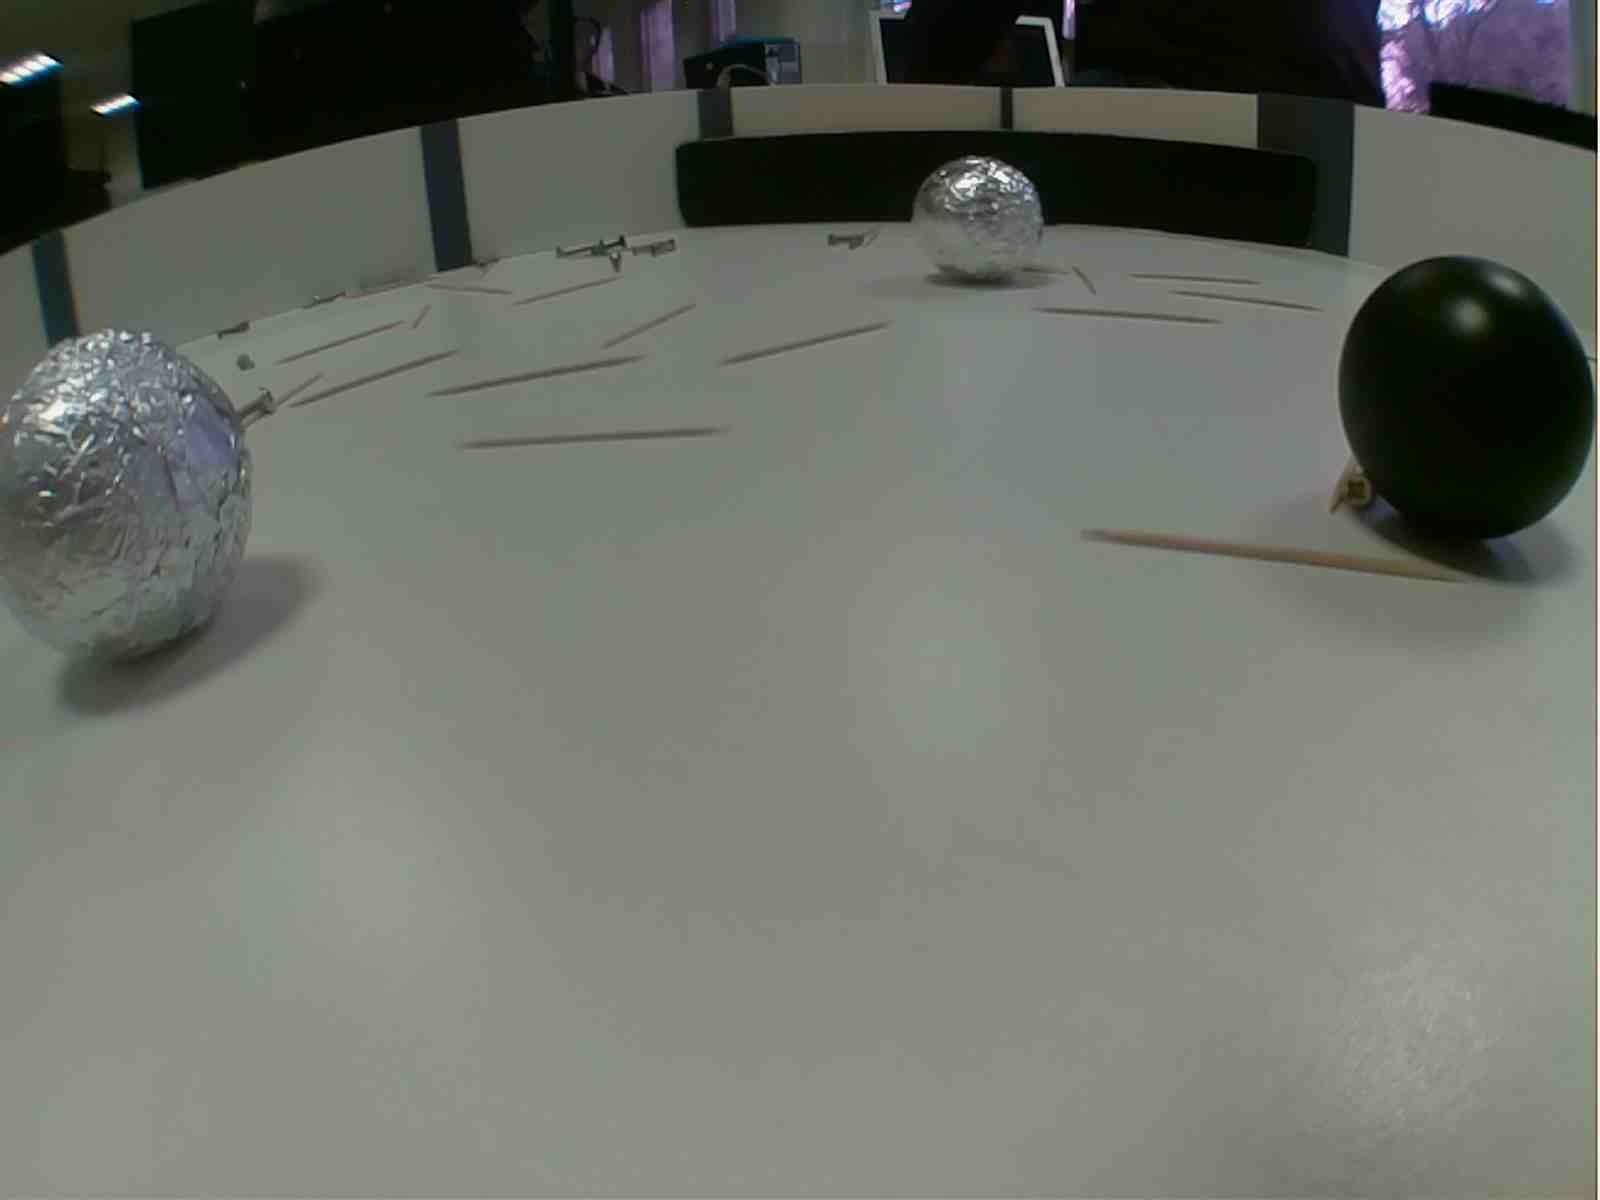bianca: (1, 328, 258, 686), (906, 160, 1046, 285)
nera: (1334, 255, 1600, 547)
